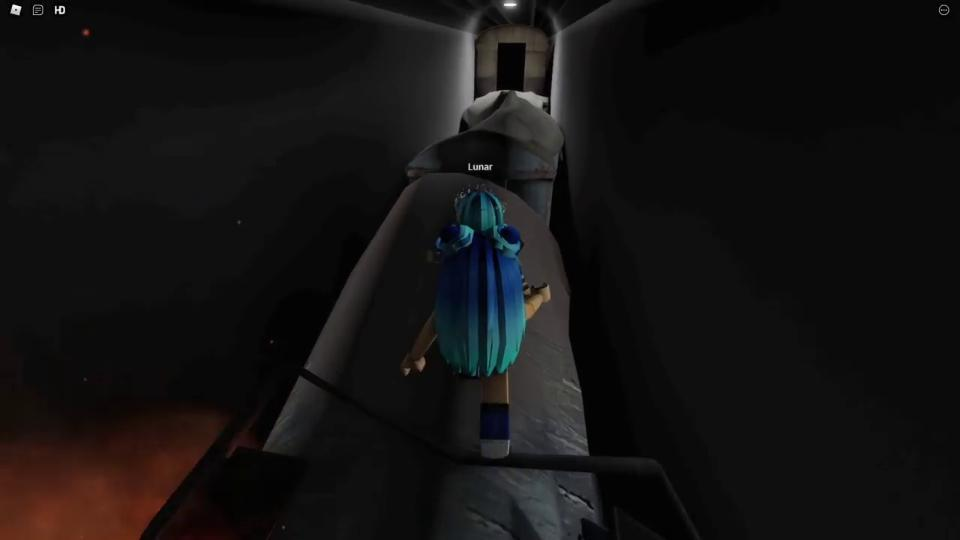Character: (401, 222, 550, 459)
